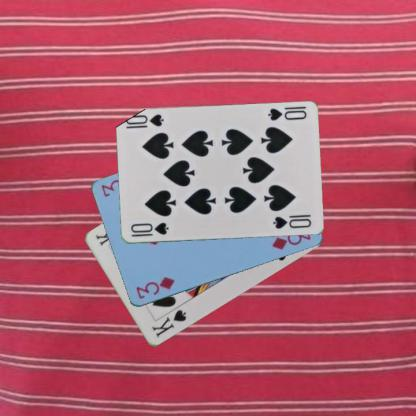10s: (128, 220, 170, 238), (264, 106, 308, 122)
3d: (133, 274, 176, 300)
Ks: (148, 308, 188, 340)
